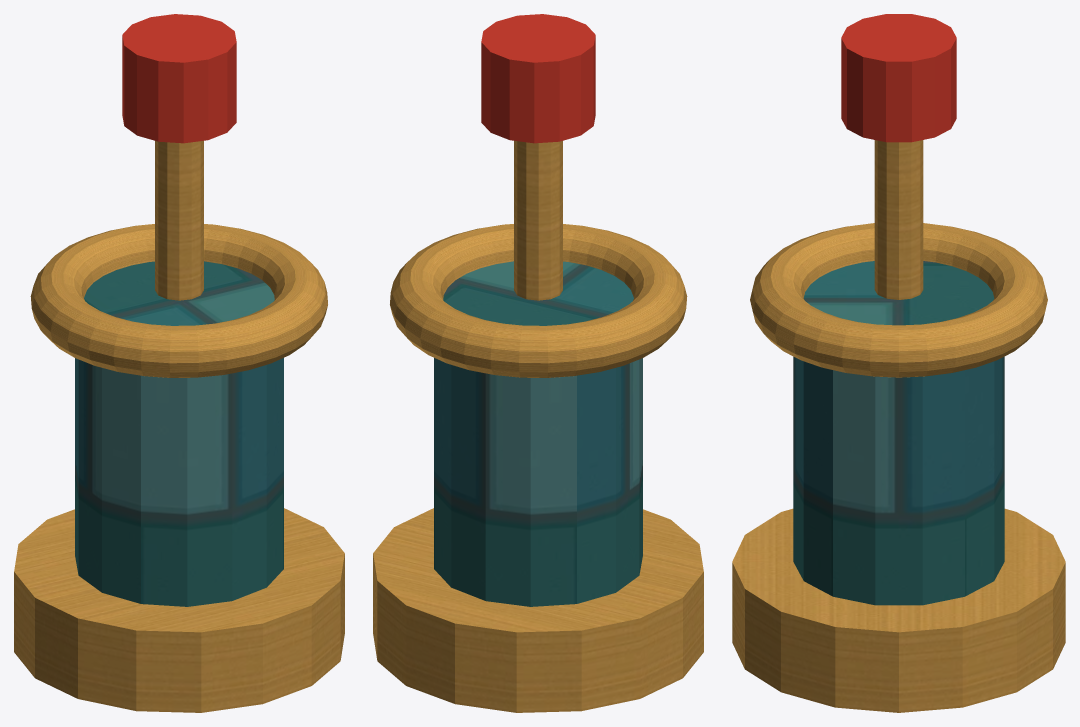
File: act3_dock_switch.glb
The picture shows the model from 3 angles, left to right: view 1: azimuth 30°, elevation 25°; view 2: azimuth 150°, elevation 25°; view 3: azimuth 270°, elevation 25°; orthographic projection.
Parts seen in each view (by area): view 1: SM_Act3_DockSwitch, ANIM_Act3_SwitchHandle_Mesh; view 2: SM_Act3_DockSwitch, ANIM_Act3_SwitchHandle_Mesh; view 3: SM_Act3_DockSwitch, ANIM_Act3_SwitchHandle_Mesh.
Boxes of the visible parts, box(x1,y1,x2,y2) form: SM_Act3_DockSwitch: box(14, 224, 344, 712); ANIM_Act3_SwitchHandle_Mesh: box(122, 14, 236, 300); SM_Act3_DockSwitch: box(373, 224, 703, 712); ANIM_Act3_SwitchHandle_Mesh: box(481, 14, 595, 300); SM_Act3_DockSwitch: box(732, 223, 1065, 712); ANIM_Act3_SwitchHandle_Mesh: box(841, 14, 956, 299).
Size of the model in its own units: 0.3 by 0.6 by 0.3.
3 materials, 2 textured.
